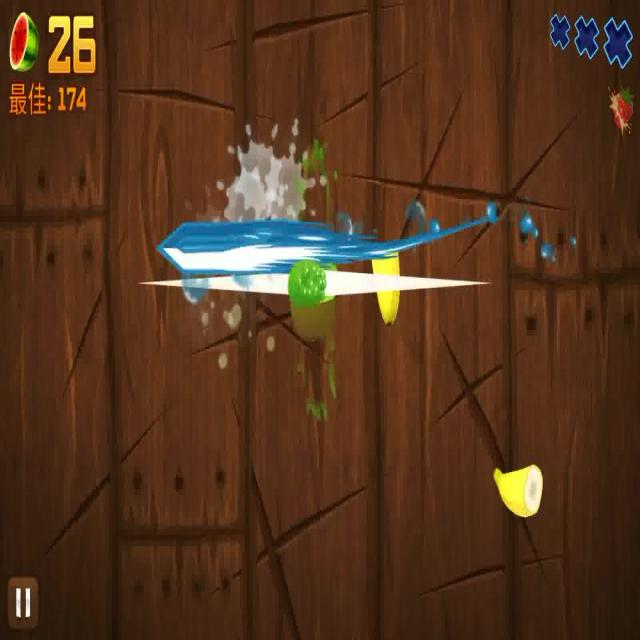fruit: (276, 264, 345, 339), (488, 449, 544, 521), (372, 241, 403, 328)
